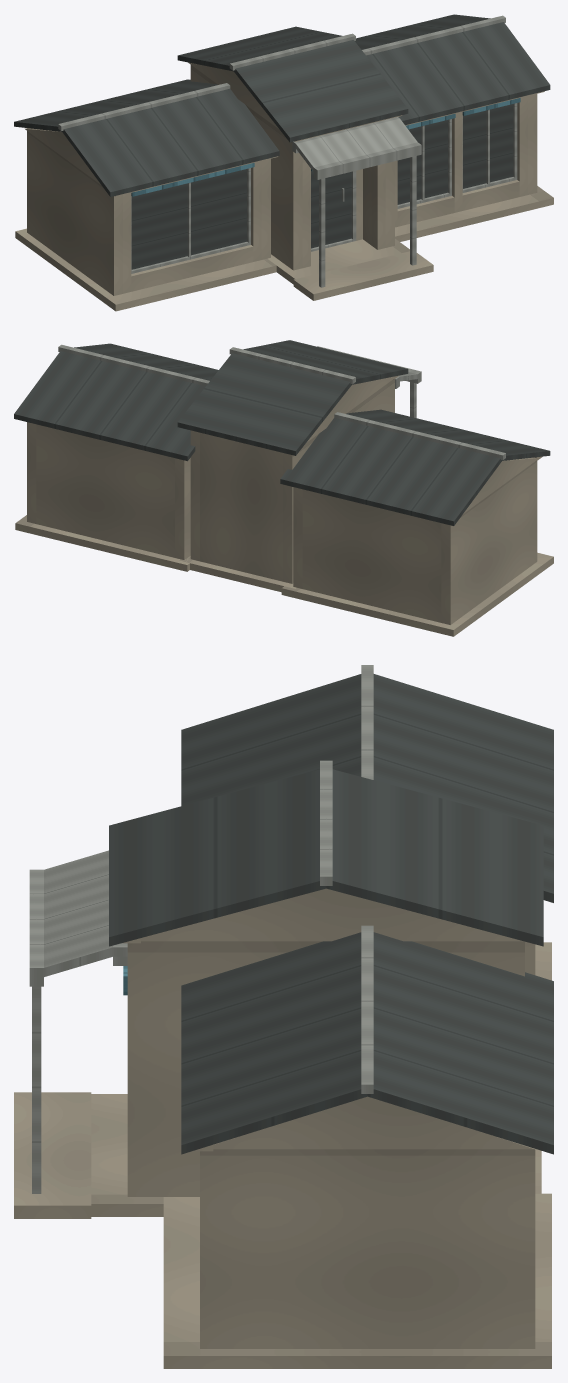
3 renders of one model, top to bottom at view 1: azimuth 30°, elevation 25°; view 2: azimuth 150°, elevation 25°; view 3: azimuth 270°, elevation 25°, orthographic. The views are drawn at different scales.
Parts seen in each view (by area): view 1: dili; view 2: dili; view 3: dili.
Boxes of the visible parts, <box> form: dili: <box>14,14,553,311</box>; dili: <box>14,340,553,636</box>; dili: <box>14,665,553,1368</box>.
Bounding box in the file's own units: 8.6 × 3.28 × 4.68.
Materials: 1 (1 with a texture image).
